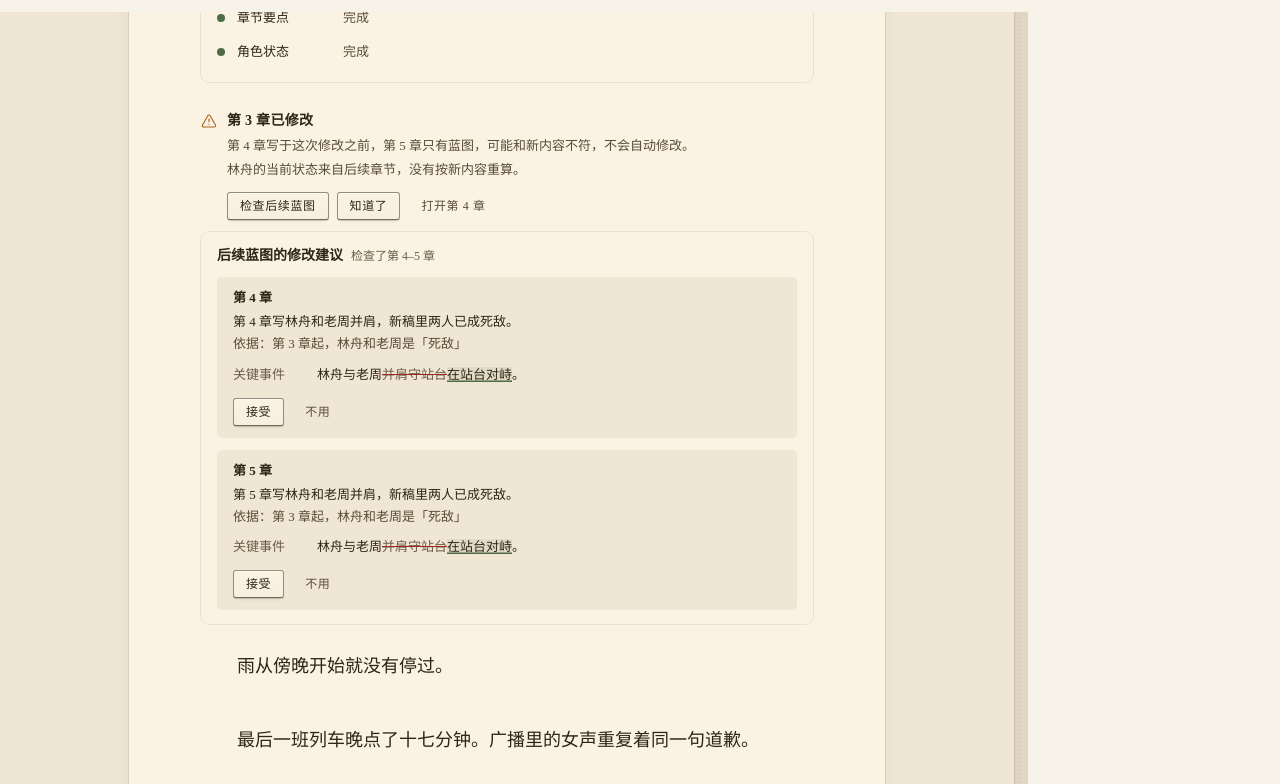
Test: 替换定稿后检查后续蓝图 › 「接受」交给主进程写蓝图并刷新蓝图页；「不用」不写；接受时蓝图已改过就说明没写入、请重新检查
(page scrolled)
Expected: the text "第 3 章已修改" is shown, x1=227 y1=113 x2=313 y2=128
Expected: the element "后续蓝图的修改建议" is shown, x1=201 y1=232 x2=813 y2=624
Click the button "接受" below "第 4 章写林舟和老周并肩，新稿里两人已成死敌。".
click(259, 412)  # box x1=233 y1=398 x2=284 y2=426
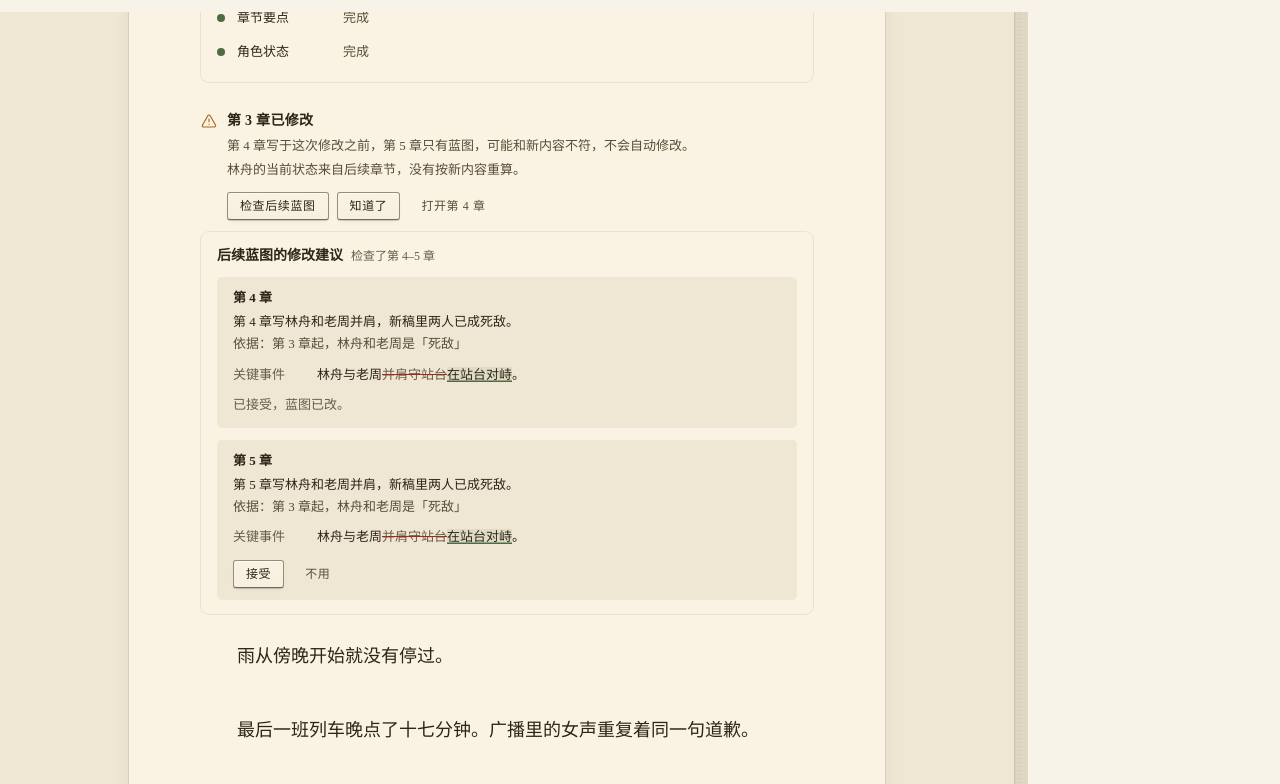
Expected: the text "已接受，蓝图已改。" is shown, x1=233 y1=397 x2=350 y2=412
Click the button "接受".
click(259, 574)  # box x1=233 y1=560 x2=284 y2=588
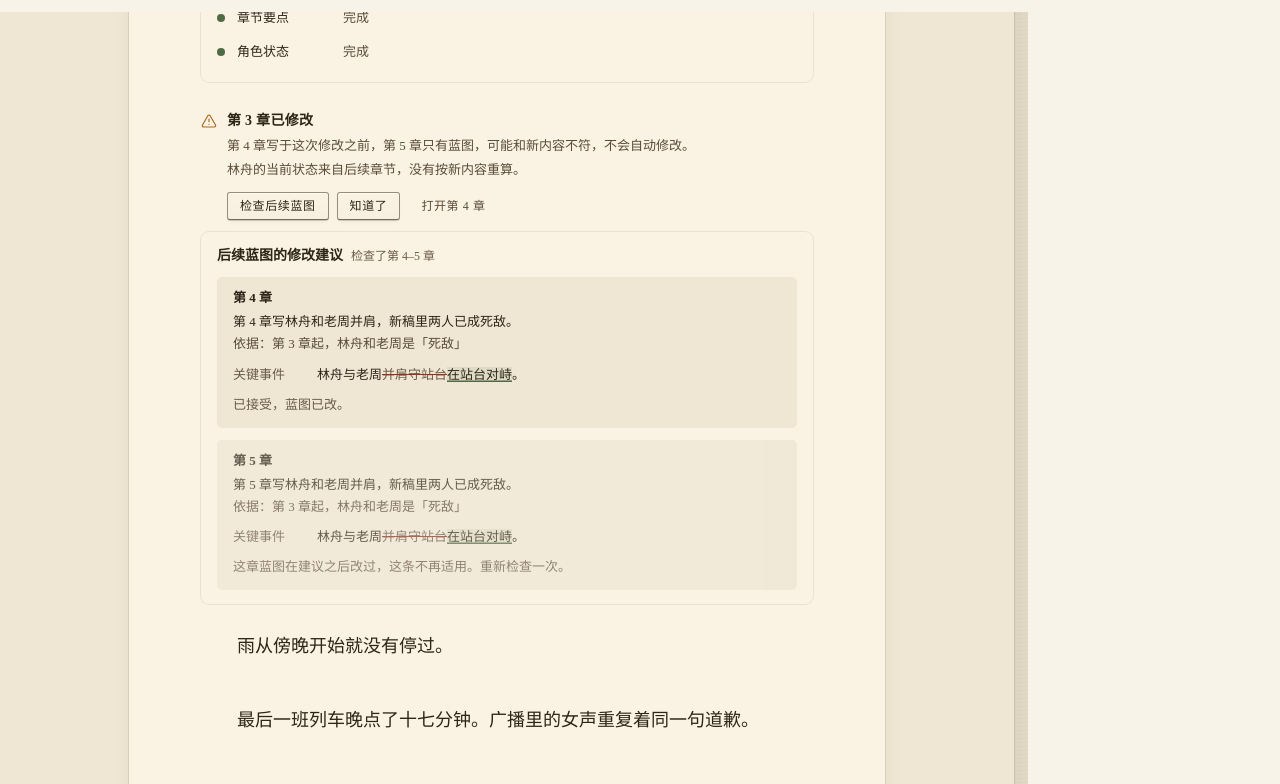
Expected: the text "这章蓝图在建议之后改过，这条不再适用。重新检查一次。" is shown, x1=233 y1=559 x2=571 y2=574
